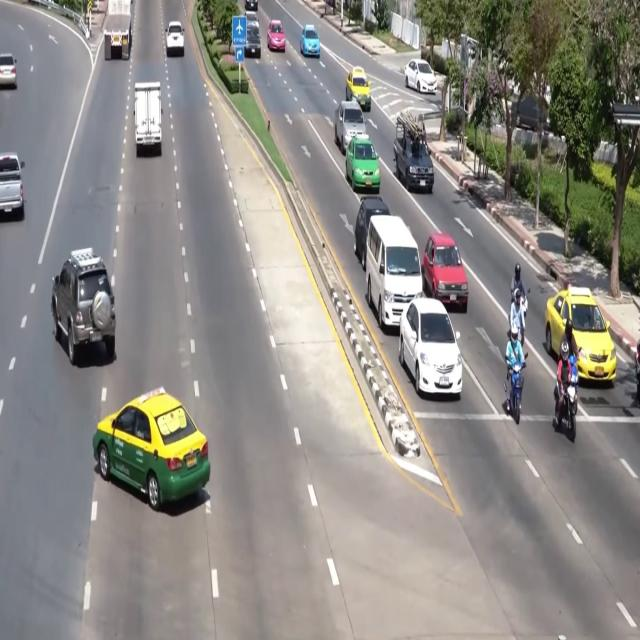car: (93, 388, 210, 511), (51, 247, 116, 365), (545, 286, 616, 383), (399, 297, 462, 398), (423, 233, 468, 312), (354, 196, 390, 269), (345, 138, 380, 192), (334, 101, 367, 153), (511, 96, 549, 132), (405, 59, 436, 94), (346, 66, 370, 111), (300, 24, 320, 58), (166, 22, 184, 56), (0, 54, 17, 88), (267, 20, 285, 52), (245, 22, 260, 58), (245, 11, 258, 23), (245, 0, 257, 11)
scooty: (555, 356, 578, 442), (504, 353, 528, 424), (556, 382, 577, 442), (521, 288, 530, 318), (635, 340, 639, 403)
truck: (394, 112, 434, 193), (134, 82, 162, 156), (104, 0, 131, 60), (0, 153, 24, 219)
